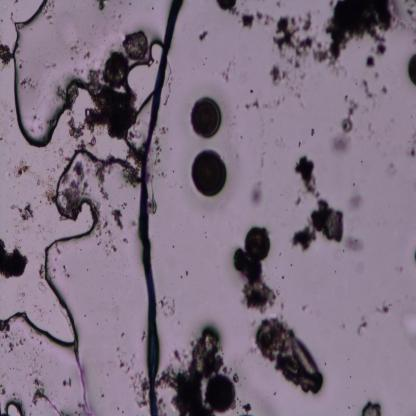Air bubble: (0, 146, 126, 362), (8, 0, 71, 153), (125, 37, 166, 119), (4, 399, 22, 416)
Background material: (314, 0, 394, 71), (160, 323, 220, 416), (82, 58, 138, 146), (295, 198, 349, 249), (238, 252, 282, 314), (274, 15, 316, 66), (329, 90, 357, 152), (291, 152, 327, 200), (253, 309, 283, 363), (149, 116, 169, 191), (57, 161, 86, 209), (74, 341, 92, 416), (0, 238, 32, 280), (283, 54, 305, 107), (33, 389, 67, 416), (387, 0, 416, 31), (95, 218, 117, 258), (122, 29, 148, 62), (130, 368, 151, 407), (158, 285, 180, 319), (10, 200, 38, 226), (398, 306, 416, 346), (339, 229, 366, 254), (249, 170, 266, 208), (359, 395, 387, 416), (230, 8, 256, 30), (95, 165, 110, 202), (63, 85, 82, 112), (218, 59, 240, 82), (348, 190, 367, 216), (34, 260, 48, 294), (66, 115, 84, 139), (43, 176, 57, 206), (13, 152, 28, 180), (272, 63, 290, 86), (370, 33, 387, 56), (126, 167, 142, 191), (0, 37, 12, 69), (41, 0, 55, 24), (256, 10, 274, 28), (263, 94, 285, 108), (233, 246, 243, 276), (361, 77, 374, 99), (113, 207, 125, 229), (20, 76, 36, 91), (355, 320, 371, 335), (242, 98, 262, 110), (365, 119, 375, 142), (17, 286, 27, 308), (406, 133, 416, 155), (28, 360, 40, 378), (73, 400, 86, 416), (376, 303, 391, 315), (388, 160, 398, 178), (164, 80, 172, 102), (70, 41, 80, 58), (260, 140, 266, 168), (34, 305, 45, 319), (63, 263, 72, 280), (364, 56, 375, 69), (84, 50, 94, 64), (5, 109, 15, 123), (34, 171, 42, 188), (392, 261, 403, 273), (380, 82, 391, 94), (242, 400, 252, 412), (98, 0, 108, 12), (72, 66, 84, 76), (198, 30, 208, 42), (34, 377, 44, 389), (129, 351, 136, 367), (76, 140, 86, 151), (222, 364, 232, 375), (63, 376, 72, 388), (234, 372, 242, 385), (338, 321, 348, 331), (39, 227, 46, 241), (89, 136, 97, 148), (0, 380, 6, 396), (55, 243, 62, 256), (56, 145, 63, 157), (310, 125, 316, 137), (122, 236, 130, 245), (8, 342, 14, 353), (0, 320, 6, 331), (62, 156, 70, 163), (121, 201, 128, 209), (5, 334, 12, 342), (142, 331, 147, 342), (13, 391, 18, 401), (119, 330, 125, 338), (5, 324, 11, 332), (302, 302, 308, 310), (33, 112, 38, 121), (18, 338, 24, 345), (52, 62, 58, 68), (275, 1, 281, 7), (185, 269, 189, 277), (115, 347, 120, 352), (30, 326, 33, 334), (250, 88, 254, 94), (122, 360, 125, 368), (54, 268, 56, 279), (414, 251, 416, 262), (4, 347, 7, 354), (0, 344, 4, 349), (126, 367, 130, 372), (180, 273, 184, 278), (172, 244, 176, 249), (100, 393, 105, 397), (30, 336, 34, 340), (15, 342, 19, 346), (83, 41, 86, 46), (298, 141, 300, 148), (240, 133, 242, 140), (76, 39, 79, 43), (40, 340, 42, 346), (32, 347, 35, 351), (118, 0, 121, 4), (128, 3, 132, 6), (204, 230, 207, 234), (117, 406, 120, 410), (0, 135, 2, 140), (92, 24, 94, 29), (122, 409, 124, 414), (204, 57, 207, 60), (119, 14, 121, 18), (203, 214, 205, 218), (152, 7, 154, 10), (46, 66, 49, 68), (71, 57, 73, 60), (24, 338, 26, 341), (202, 63, 205, 65), (40, 366, 43, 368), (104, 40, 106, 42), (24, 352, 26, 354), (206, 235, 207, 238), (10, 367, 11, 370), (92, 45, 93, 47), (96, 45, 97, 47), (89, 41, 90, 43), (95, 33, 96, 35), (36, 352, 37, 354), (2, 356, 3, 358), (13, 367, 14, 369)
Cotton: (138, 0, 182, 416)
Diatom: (270, 321, 322, 396), (188, 146, 230, 200), (187, 98, 222, 138), (202, 372, 235, 411), (244, 227, 272, 258), (407, 51, 416, 85), (212, 0, 240, 10)
